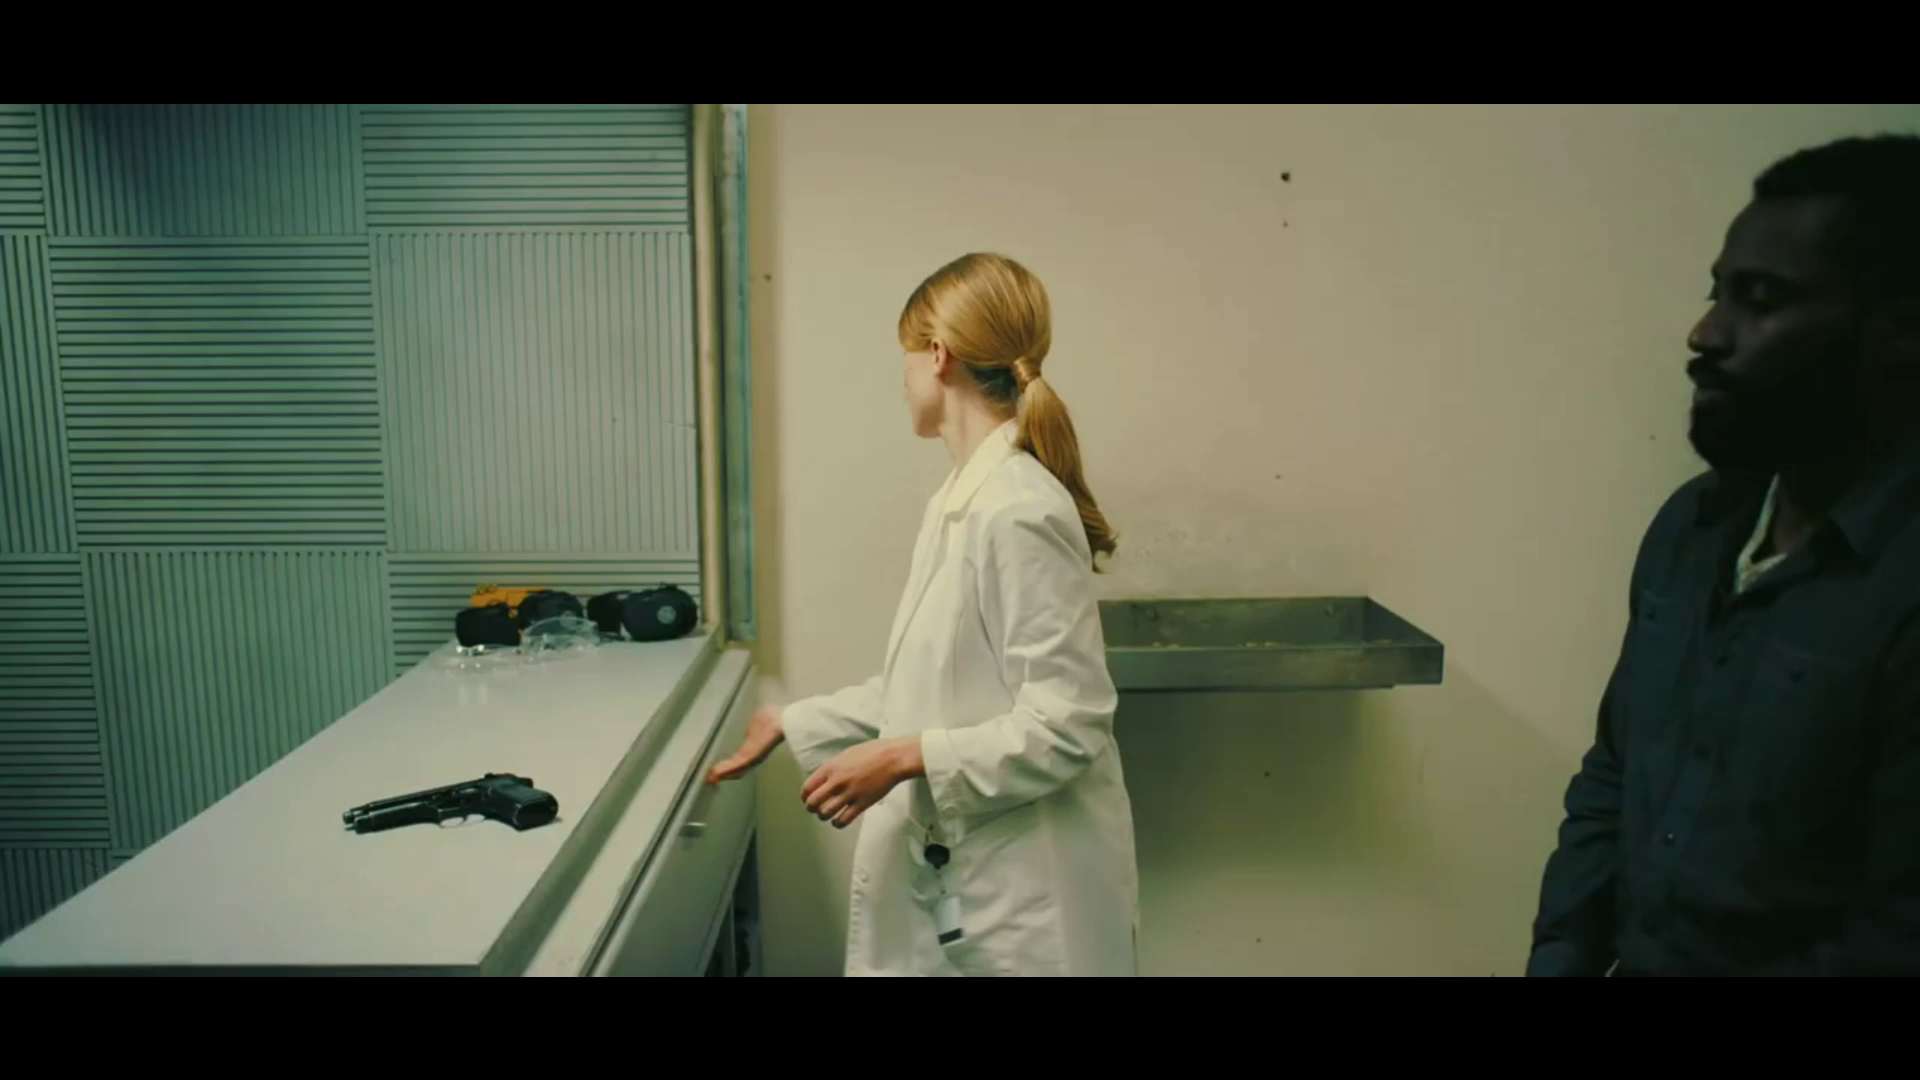SIG P226: (345, 775, 558, 833)
